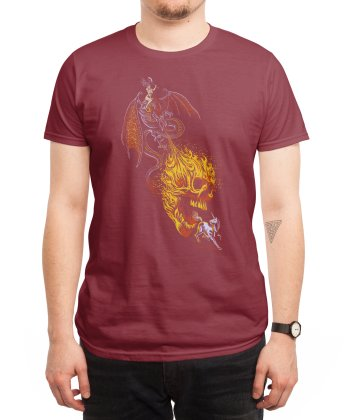design: (117, 74, 226, 256)
